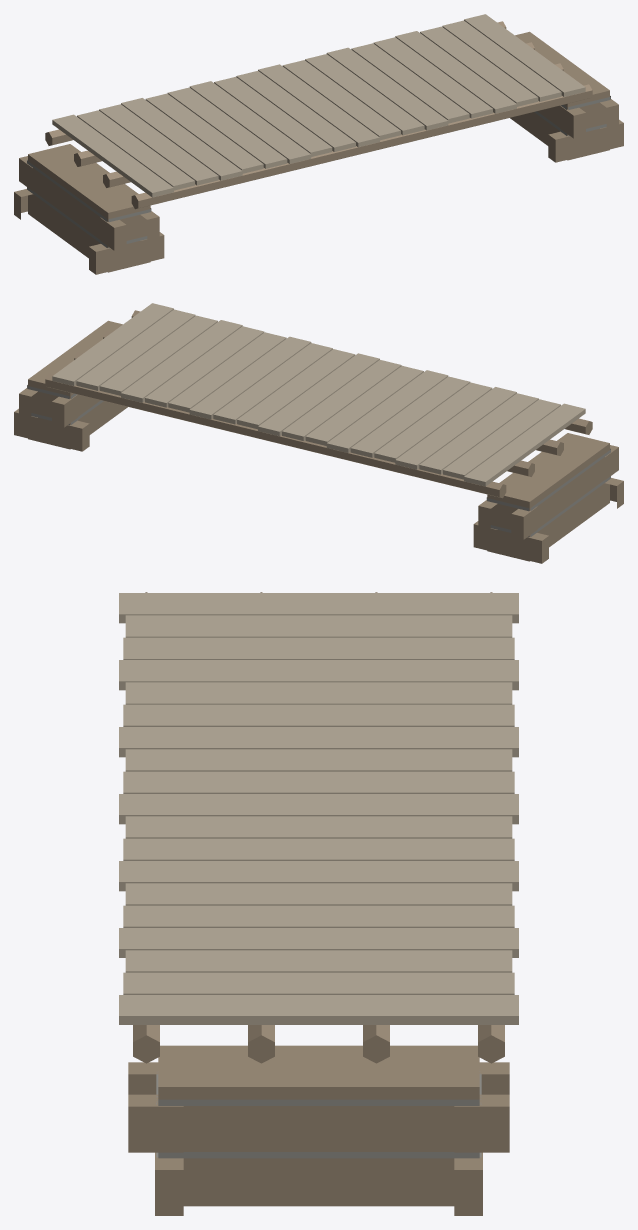
The model's file is slough_log_bridge__log_1833.glb.
3 renders of one model, top to bottom at view 1: azimuth 30°, elevation 25°; view 2: azimuth 150°, elevation 25°; view 3: azimuth 270°, elevation 25°, orthographic. The views are drawn at different scales.
Parts seen in each view (by area): view 1: slough_log_bridge__log_1833; view 2: slough_log_bridge__log_1833; view 3: slough_log_bridge__log_1833.
Part boxes in pixels (left/top/right/bottom): slough_log_bridge__log_1833: left=14, top=14, right=623, bottom=274; slough_log_bridge__log_1833: left=14, top=303, right=623, bottom=563; slough_log_bridge__log_1833: left=119, top=592, right=518, bottom=1215.
Size of the model in its own units: 9.72 by 1.38 by 3.19.
